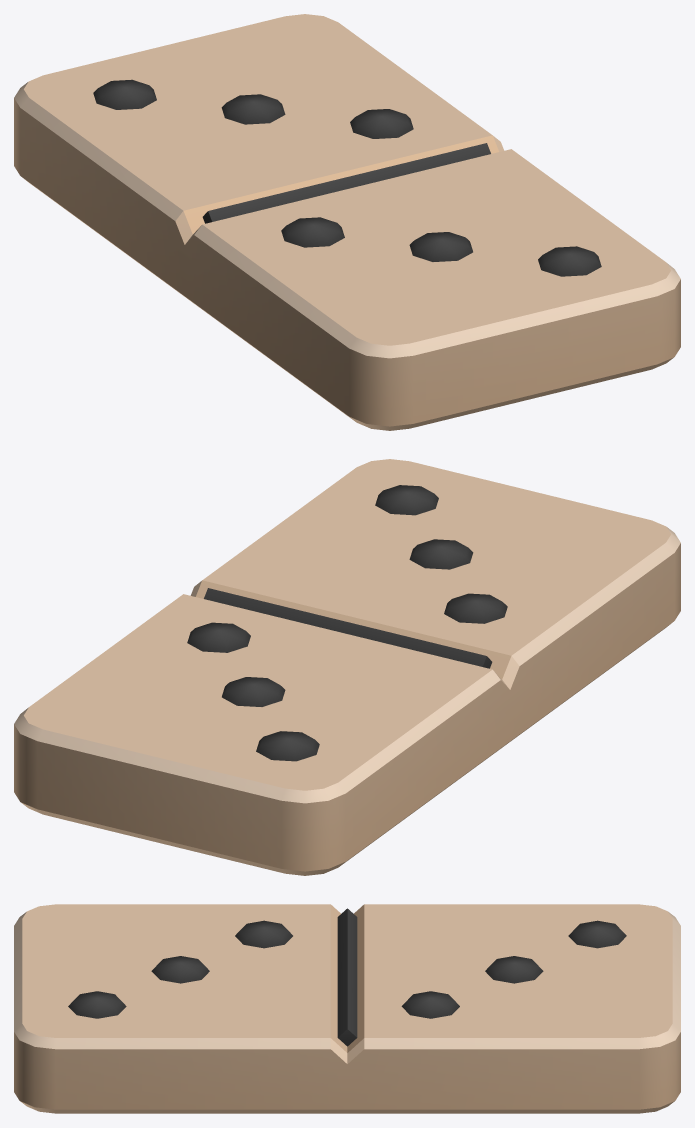
Rendered from domino_tile_3-3.obj.
3 renders of one model, top to bottom at view 1: azimuth 30°, elevation 25°; view 2: azimuth 150°, elevation 25°; view 3: azimuth 270°, elevation 25°, orthographic. The views are drawn at different scales.
Parts seen in each view (by area): view 1: domino_tile_3-3; view 2: domino_tile_3-3; view 3: domino_tile_3-3.
Boxes of the visible parts, x1,y1,x2,y2 form: domino_tile_3-3: (14, 14, 680, 430); domino_tile_3-3: (14, 459, 680, 875); domino_tile_3-3: (14, 904, 680, 1113).
Size of the model in its own units: 1 by 0.2767 by 2.
Materials: 1 (1 with a texture image).
